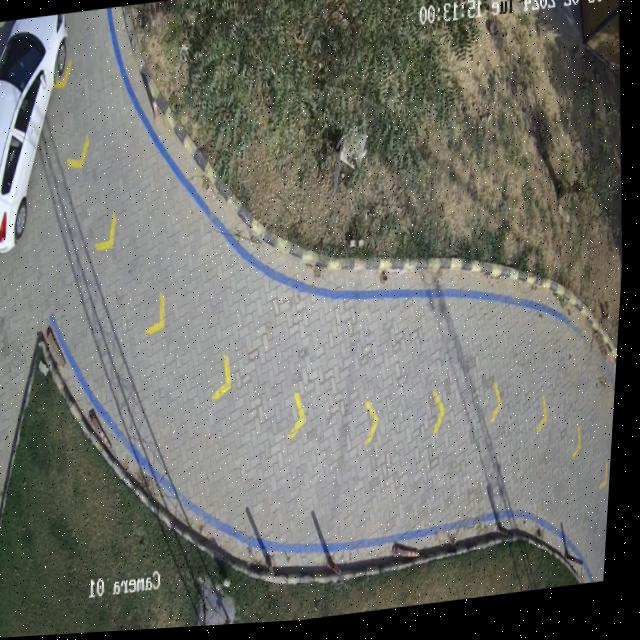car: (0, 14, 68, 251)
